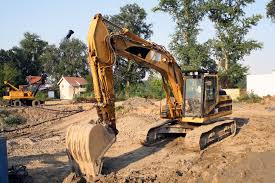excavator: (74, 15, 238, 179)
